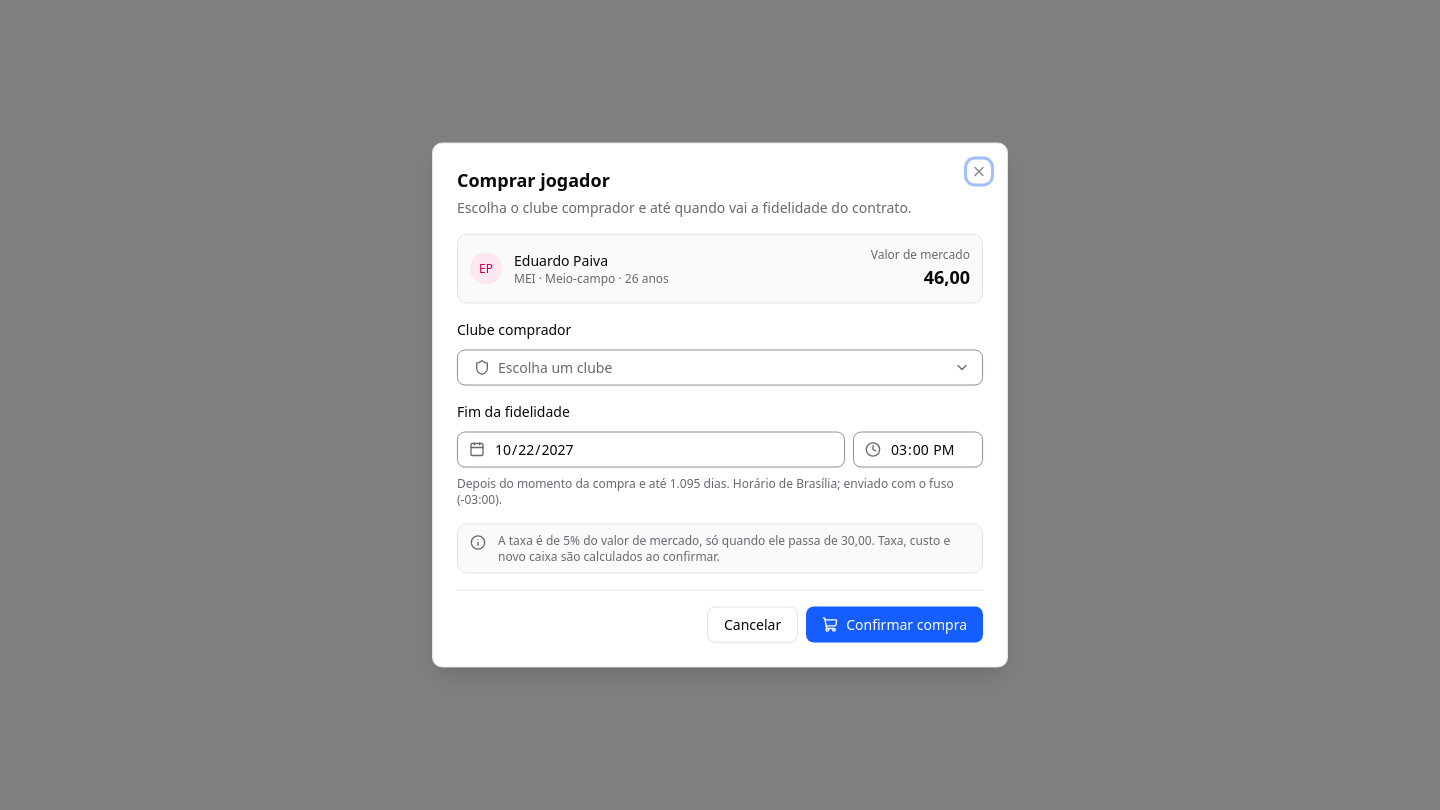
Scenario: DialogComprar › não envia sem clube e mostra a mensagem junto ao campo
This screenshot has width=1440, height=810.
Click the button "Confirmar compra": (895, 624) x1=806 y1=606 x2=983 y2=642
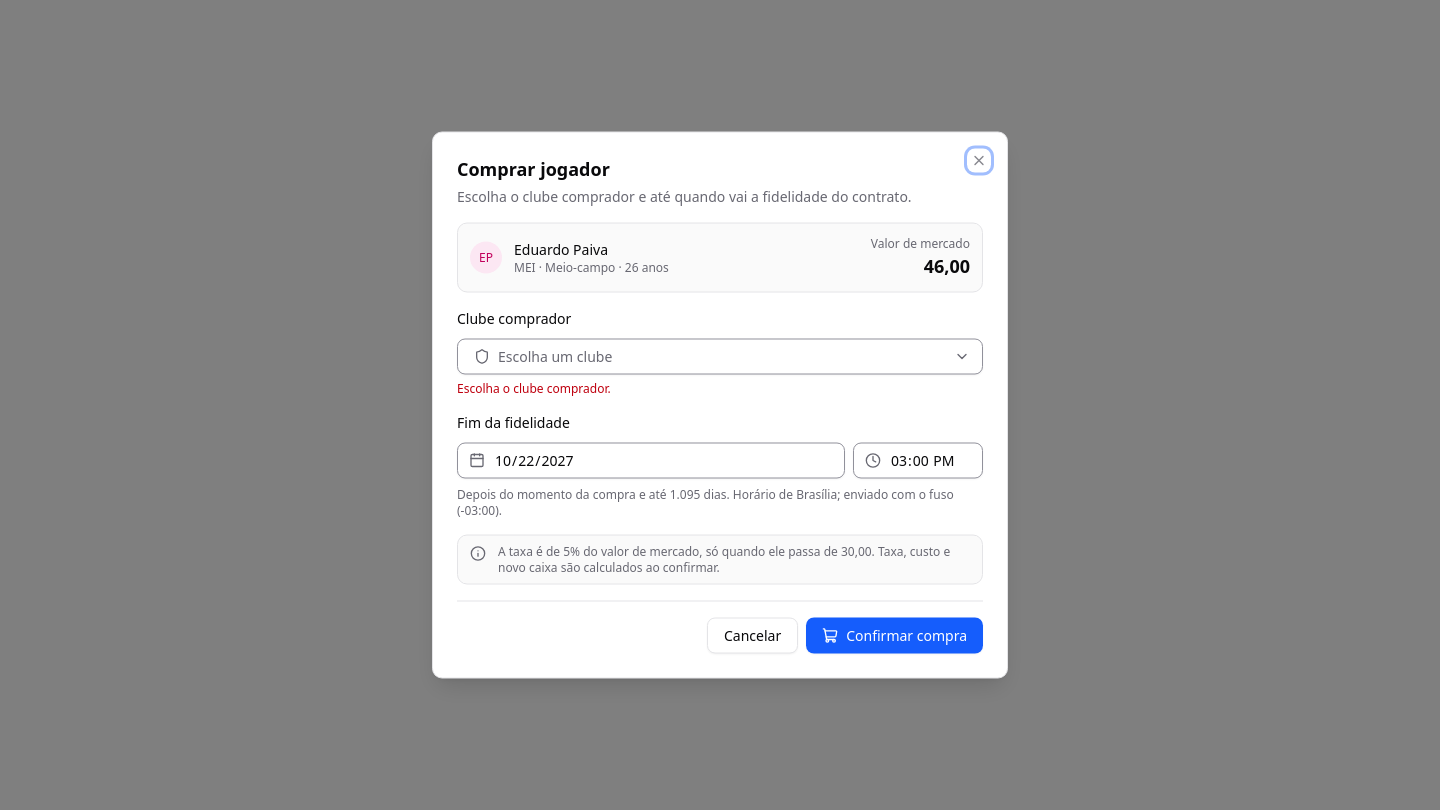
Now the text "Escolha o clube comprador." is shown, box x1=457 y1=380 x2=611 y2=396
